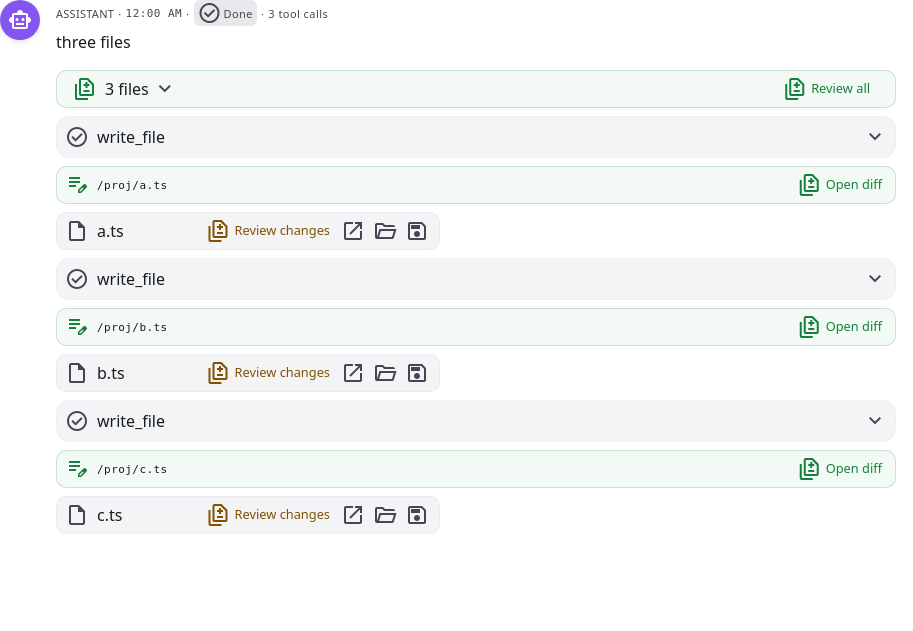
Scenario: FileChangesCard — G8 collapse (>2 files) › expands the path list on toggle with disclosure aria state
The image size is (913, 631).
Click the button with test id "file-changes-card-toggle": coordinates (141, 89) [105,77,177,101]
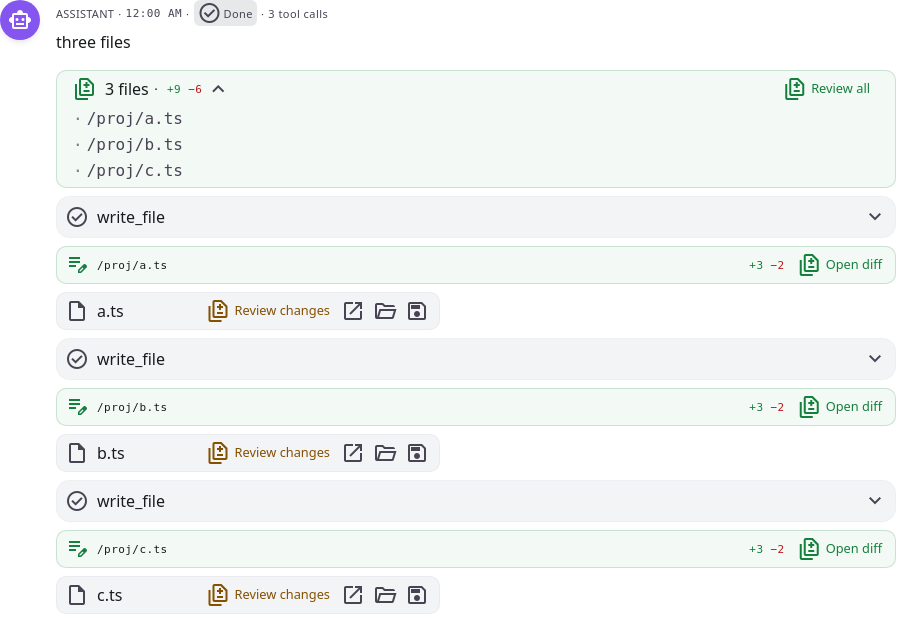
Expected: the button with test id "file-changes-card-toggle" is expanded
Expected: the list with test id "file-changes-card-paths" shows "/proj/a.ts", [87,109,183,128]
Expected: the list with test id "file-changes-card-paths" shows "/proj/b.ts", [87,135,183,154]
# Collapsing again hides the list.
Click the button with test id "file-changes-card-toggle": coordinates (168, 89) [105,77,230,101]
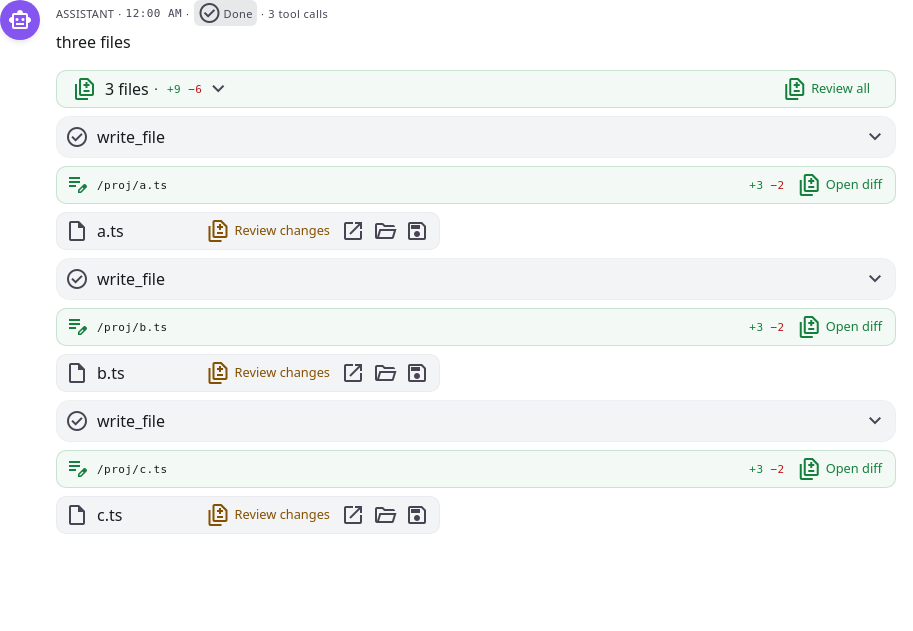
Expected: the list with test id "file-changes-card-paths" is gone
